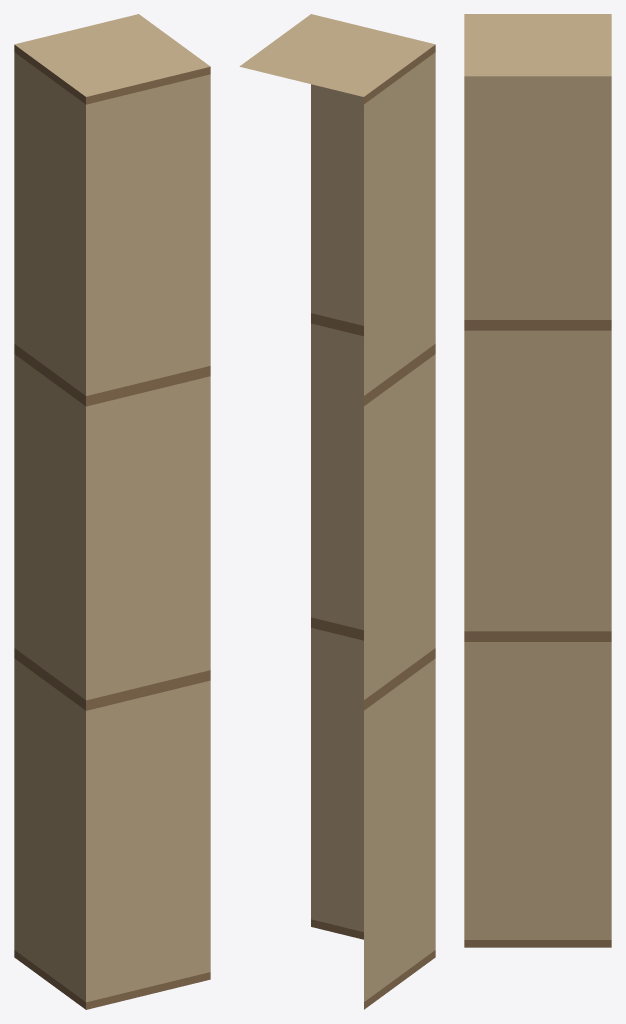
File: M_WallTileT50-1Biege80.FBX
The picture shows the model from 3 angles, left to right: view 1: azimuth 30°, elevation 25°; view 2: azimuth 150°, elevation 25°; view 3: azimuth 270°, elevation 25°; orthographic projection. The views are drawn at different scales.
Parts seen in each view (by area): view 1: M_WallTileT50-1Biege80; view 2: M_WallTileT50-1Biege80; view 3: M_WallTileT50-1Biege80.
Boxes of the visible parts, x1=… form: M_WallTileT50-1Biege80: x1=14, y1=14, x2=210, y2=1009; M_WallTileT50-1Biege80: x1=239, y1=14, x2=435, y2=1009; M_WallTileT50-1Biege80: x1=464, y1=14, x2=611, y2=947.
Size of the model in its own units: 0.5 by 3.5 by 0.5.
